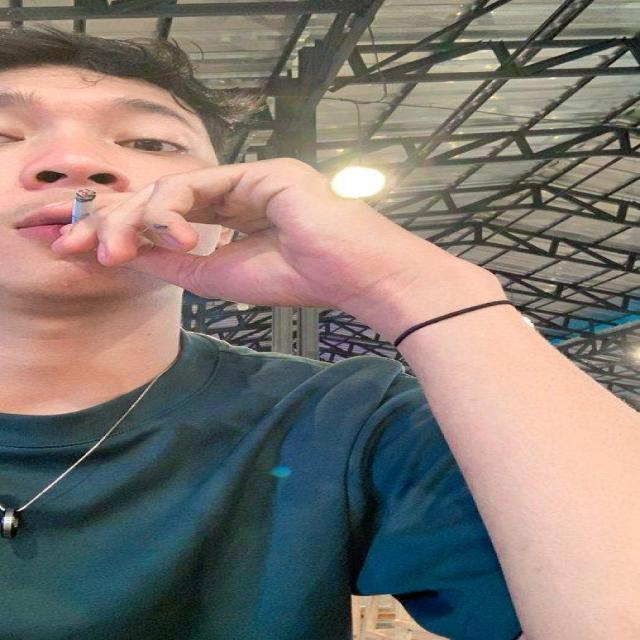rokok: (74, 186, 94, 234)
